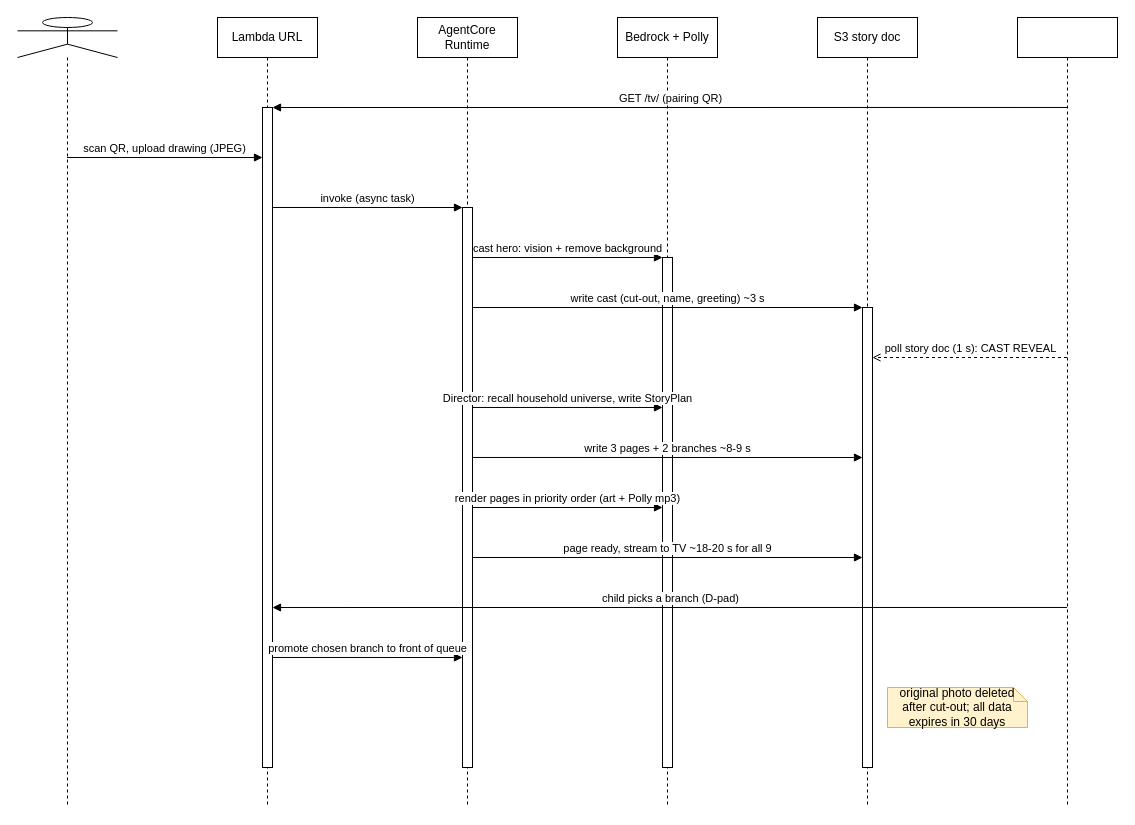
Image size: 1135x825. Some labels were removed from this diagram. The shapes that lost their labels are listed below. From the top down, each one's box as (x1, y1, x2, y2) in pixels, then its label:
(16, 16, 118, 808): Parent (phone)
(1016, 16, 1118, 808): Fire TV
